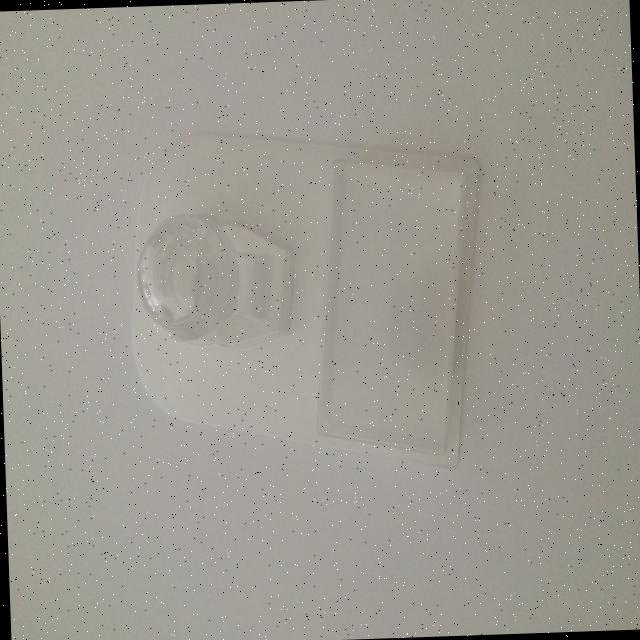plastic: (109, 116, 499, 514)
